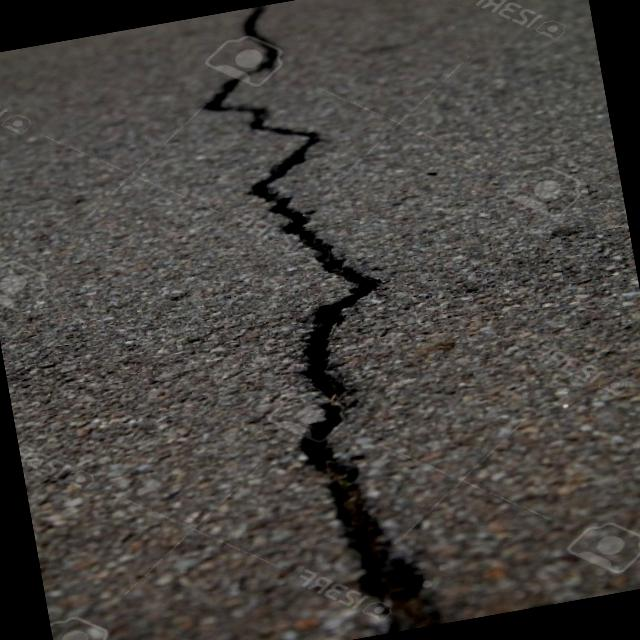crack: (178, 0, 446, 640)
